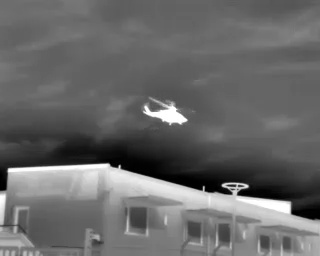HELICOPTER: (140, 91, 199, 133)
